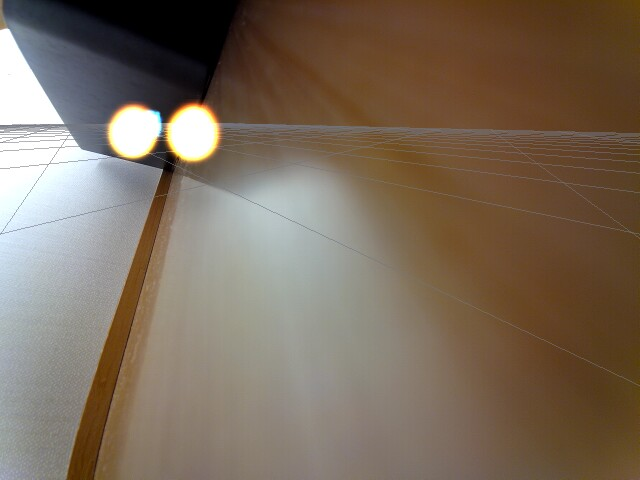firebig: (161, 101, 231, 169)
